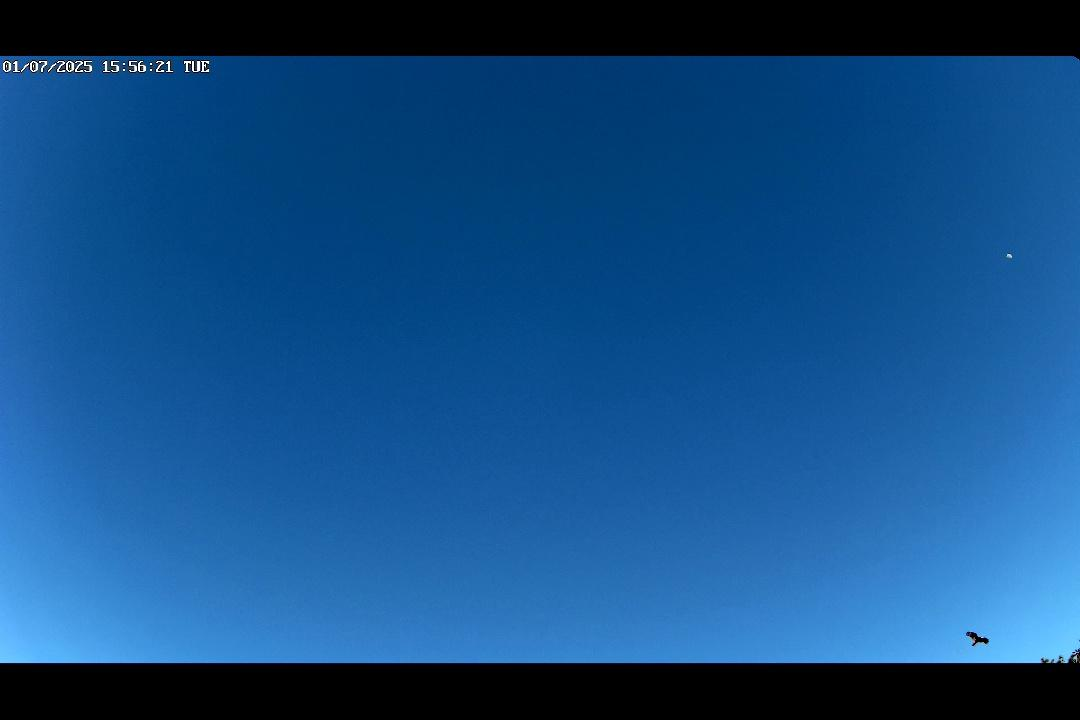WildLife: (956, 626, 998, 650)
